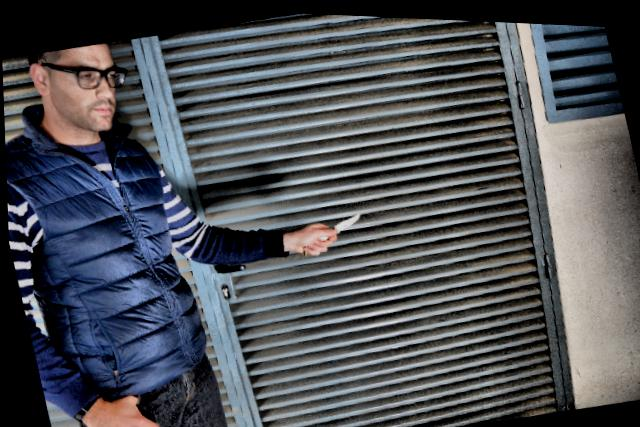knife: (292, 204, 369, 258)
